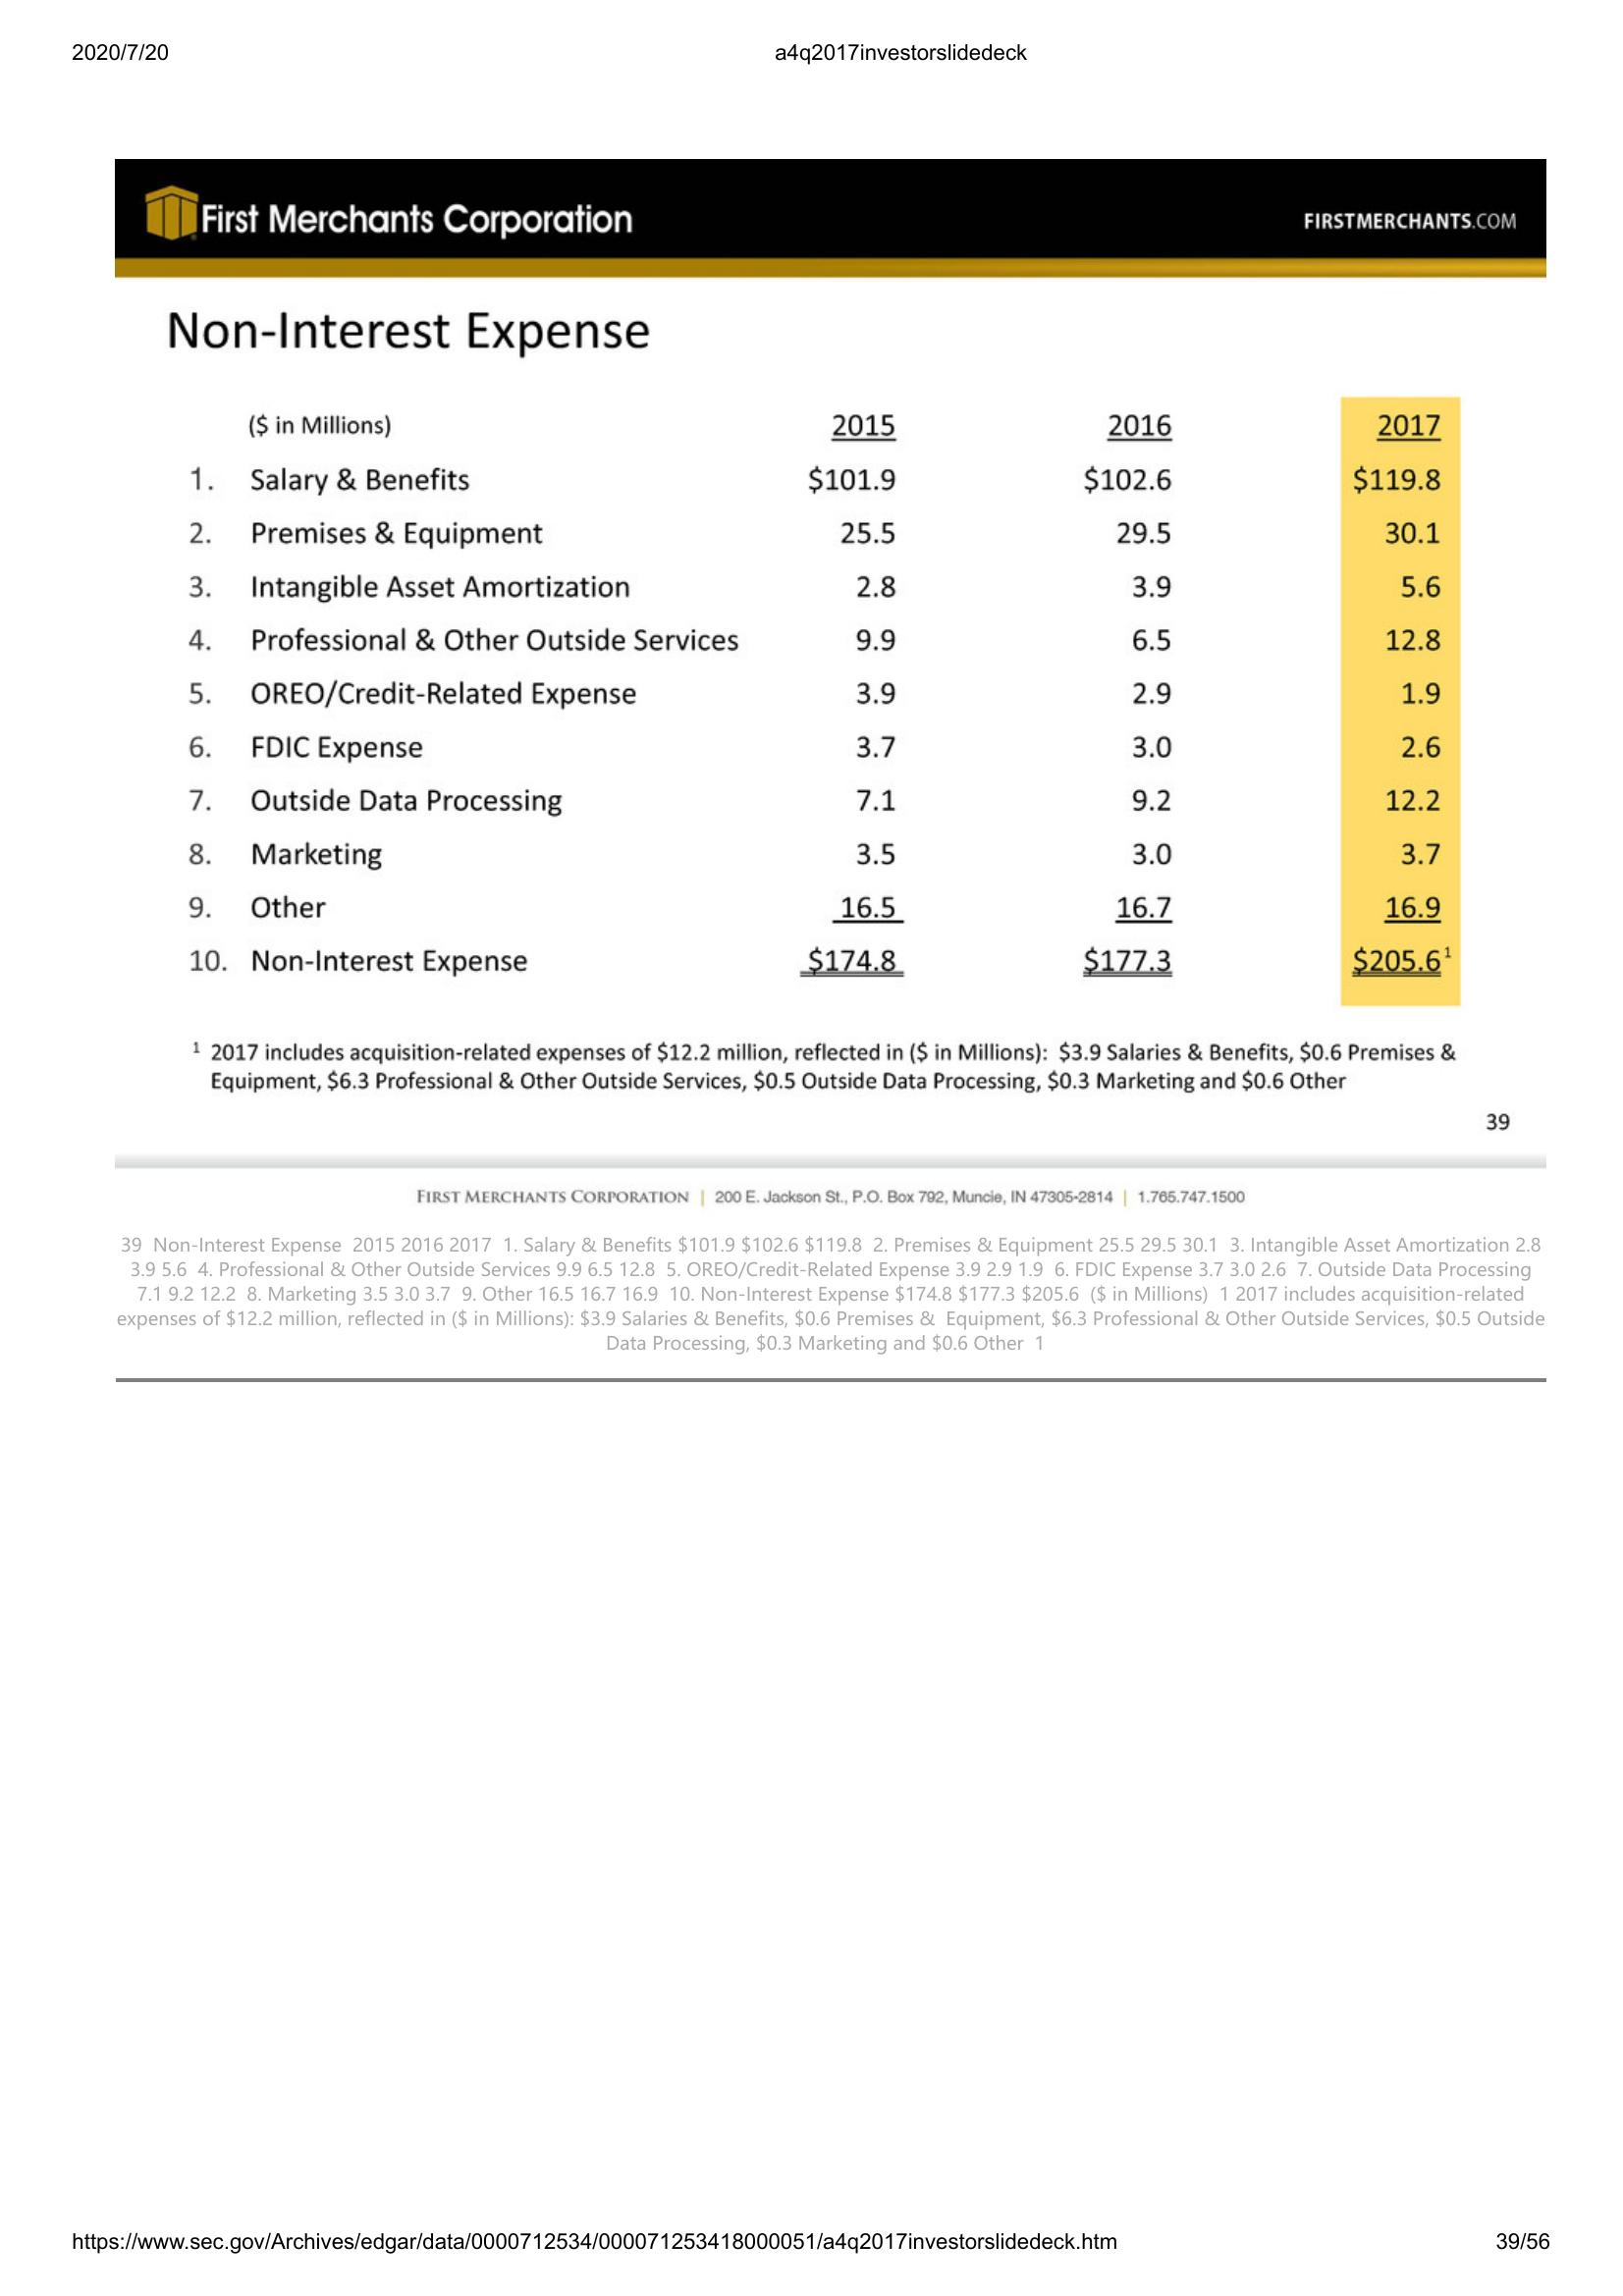table: (158, 300, 1467, 1016)
